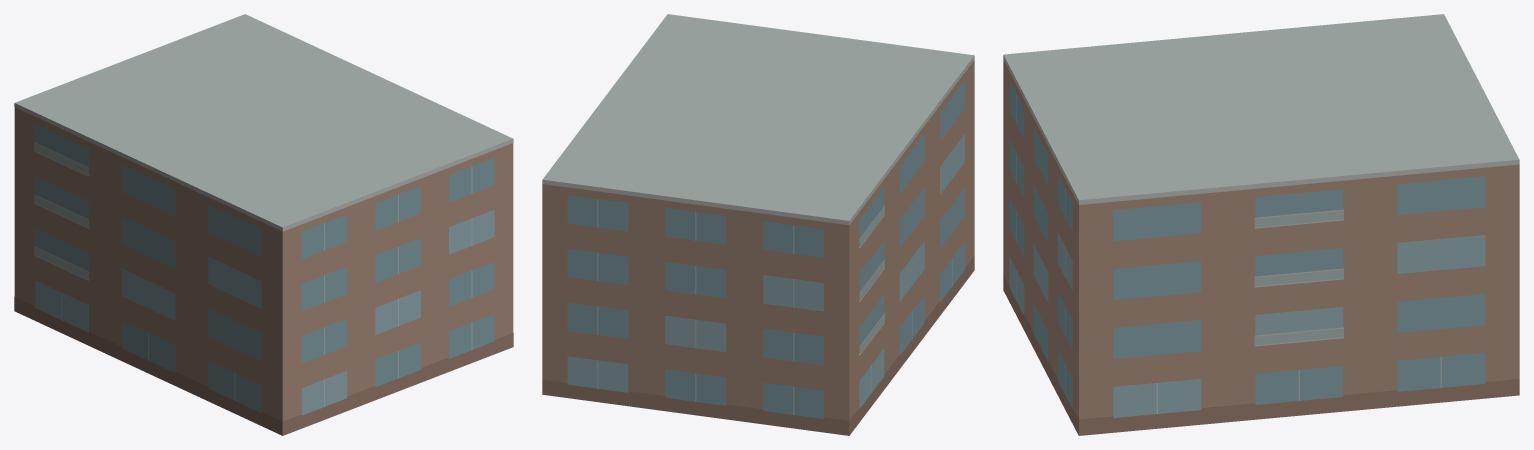
The model's file is survey-upis-32798355.glb.
3 views of the same model, side by side, from view 1: azimuth 30°, elevation 25°; view 2: azimuth 150°, elevation 25°; view 3: azimuth 270°, elevation 25° (orthographic). The views are drawn at different scales.
Visible parts, largest first — view 1: survey-upis-32798355.tmp; view 2: survey-upis-32798355.tmp; view 3: survey-upis-32798355.tmp.
Part boxes in pixels (x1,y1,x2,y2): survey-upis-32798355.tmp: (14,14,513,435); survey-upis-32798355.tmp: (542,14,974,435); survey-upis-32798355.tmp: (1003,14,1519,435).
Bounding box in the file's own units: 20.52 × 12.1 × 24.03.
